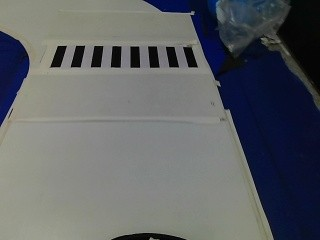crosswalk: (46, 38, 199, 72)
